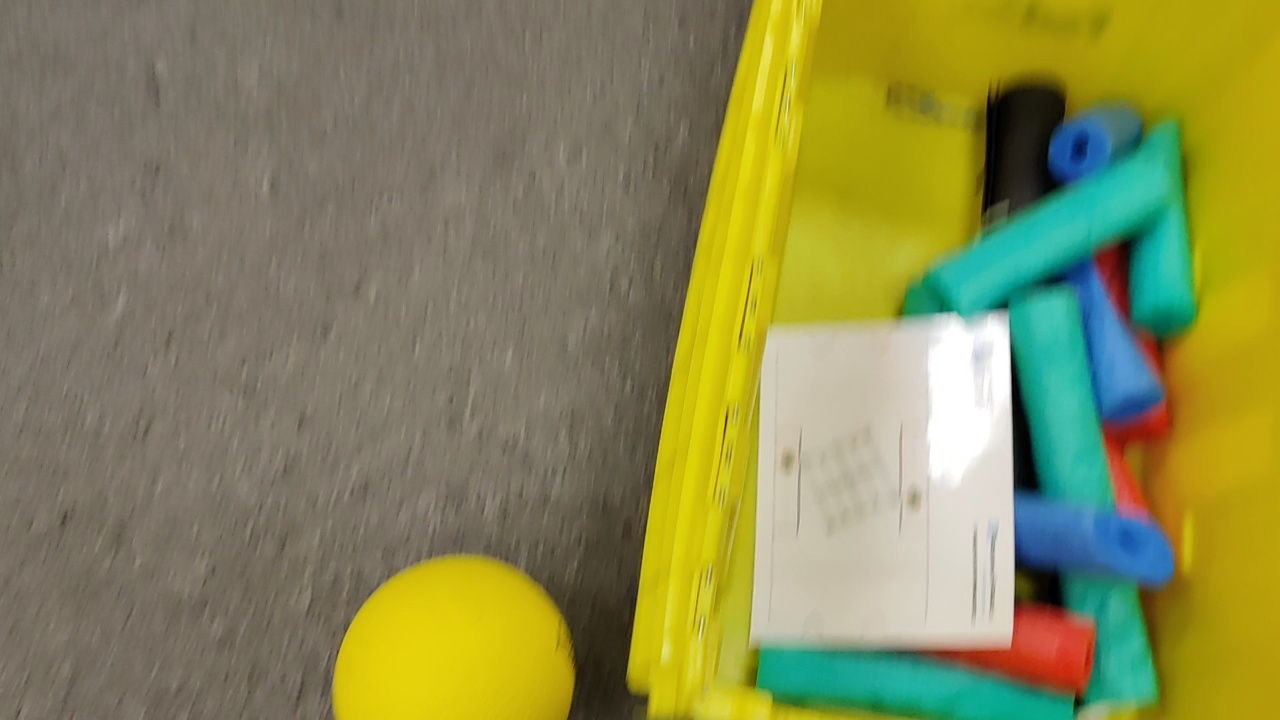Ball: (332, 555, 577, 720)
